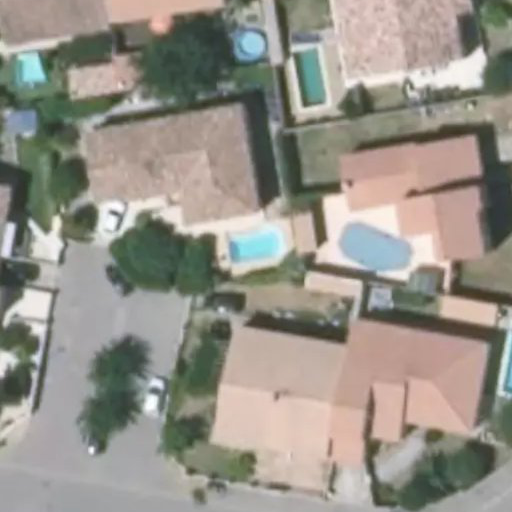pool: (229, 233, 282, 252)
